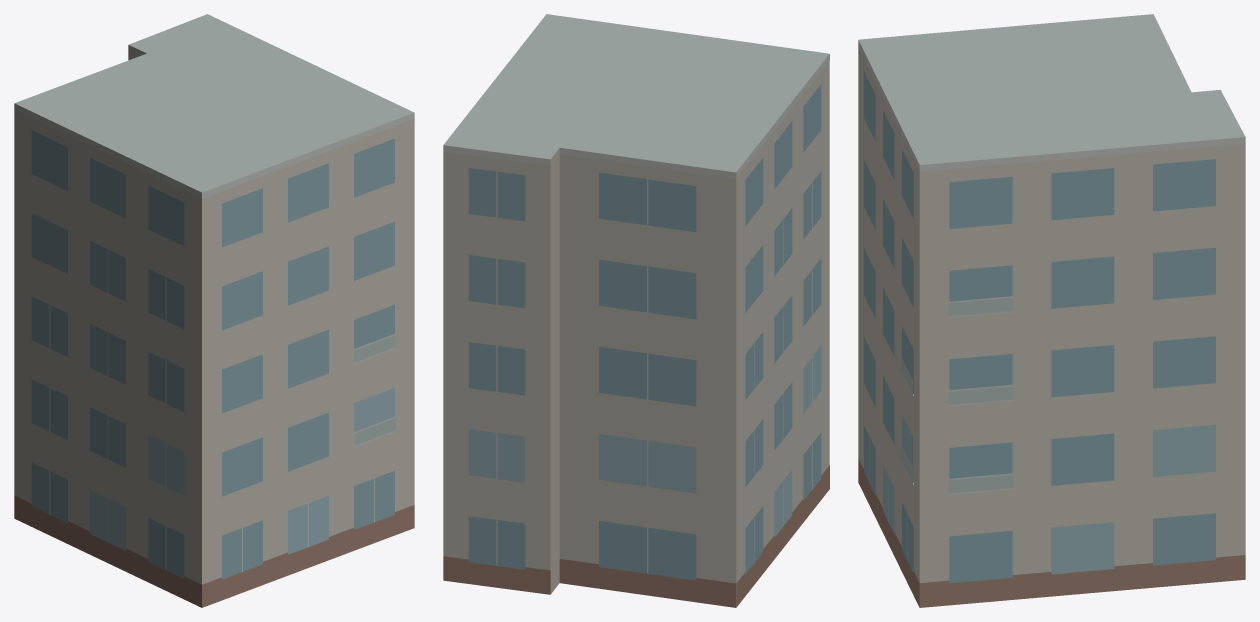
The model's file is survey-upis-32979304.glb.
The picture shows the model from 3 angles, left to right: view 1: azimuth 30°, elevation 25°; view 2: azimuth 150°, elevation 25°; view 3: azimuth 270°, elevation 25°; orthographic projection. The views are drawn at different scales.
Parts seen in each view (by area): view 1: survey-upis-32979304.tmp; view 2: survey-upis-32979304.tmp; view 3: survey-upis-32979304.tmp.
Boxes of the visible parts, bbox=[...] form: survey-upis-32979304.tmp: bbox=[14, 14, 414, 607]; survey-upis-32979304.tmp: bbox=[443, 14, 829, 607]; survey-upis-32979304.tmp: bbox=[858, 14, 1245, 607].
Size of the model in its own units: 11.95 by 16.3 by 12.93.
